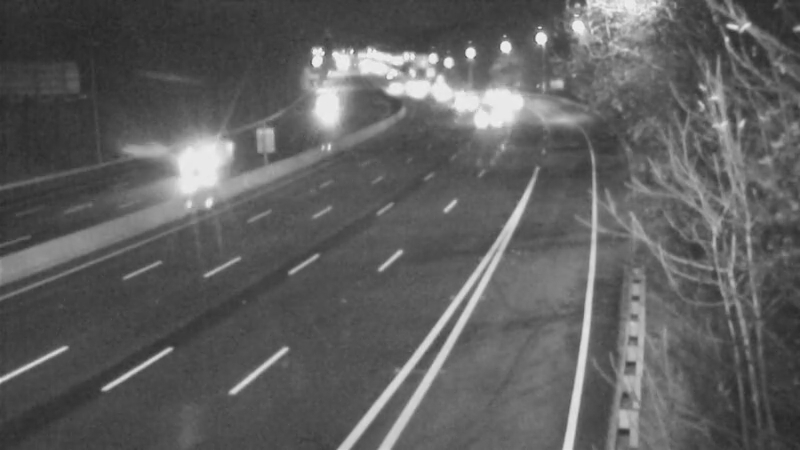vehicle: (152, 122, 232, 202), (465, 71, 515, 121), (431, 82, 481, 132), (494, 76, 544, 126), (460, 96, 510, 146), (297, 85, 347, 135)
